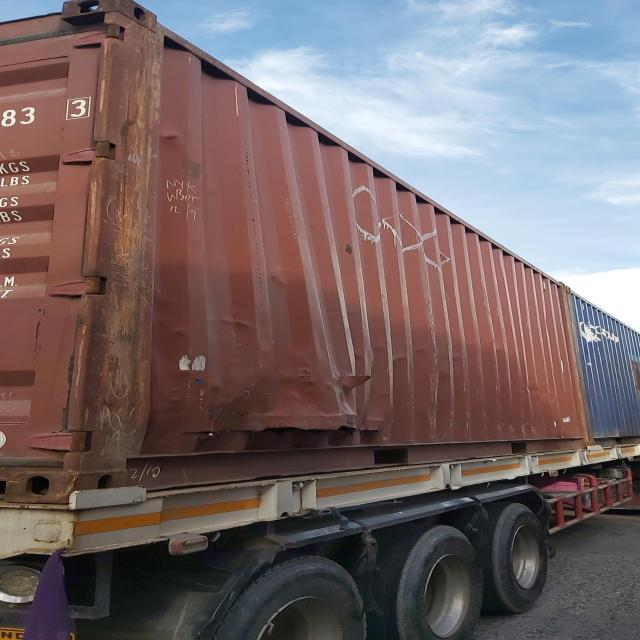hole: (240, 425, 368, 437)
